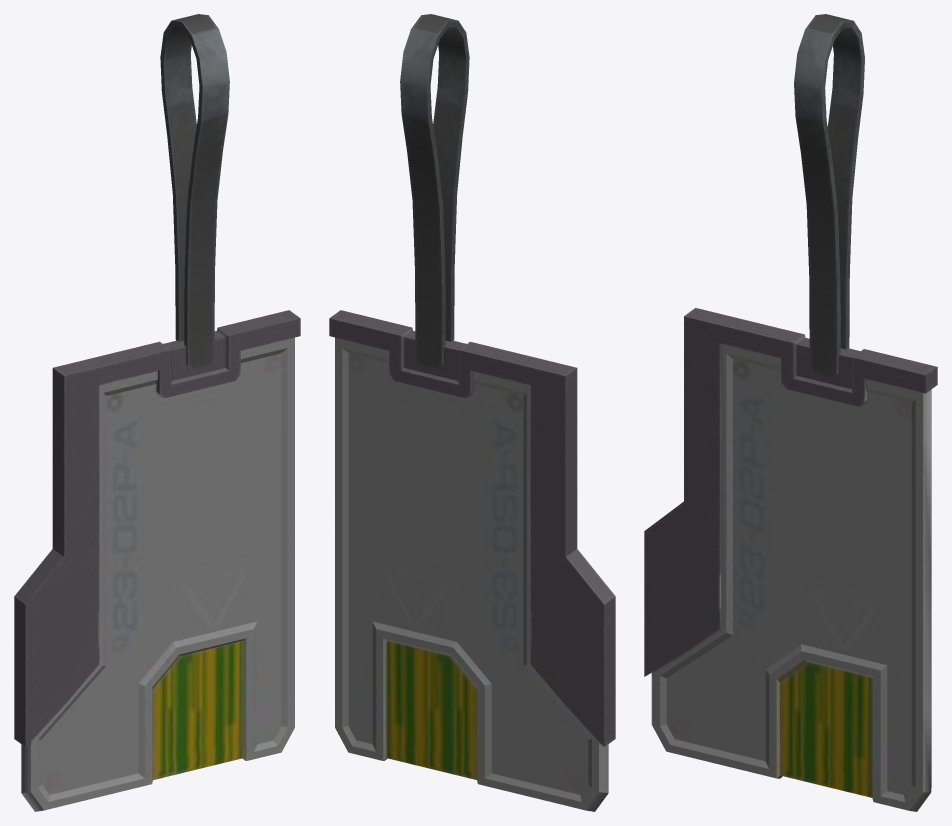
The picture shows the model from 3 angles, left to right: view 1: azimuth 30°, elevation 25°; view 2: azimuth 150°, elevation 25°; view 3: azimuth 330°, elevation 25°; orthographic projection. The views are drawn at different scales.
Visible parts, largest first — view 1: Prop_KeyCard; view 2: Prop_KeyCard; view 3: Prop_KeyCard.
Part boxes in pixels (x1,y1,x2,y2): Prop_KeyCard: [14, 14, 300, 811]; Prop_KeyCard: [329, 14, 615, 811]; Prop_KeyCard: [644, 14, 937, 811].
Bounding box in the file's own units: 0.1271 × 0.3332 × 0.0339.
1 material, 1 textured.
